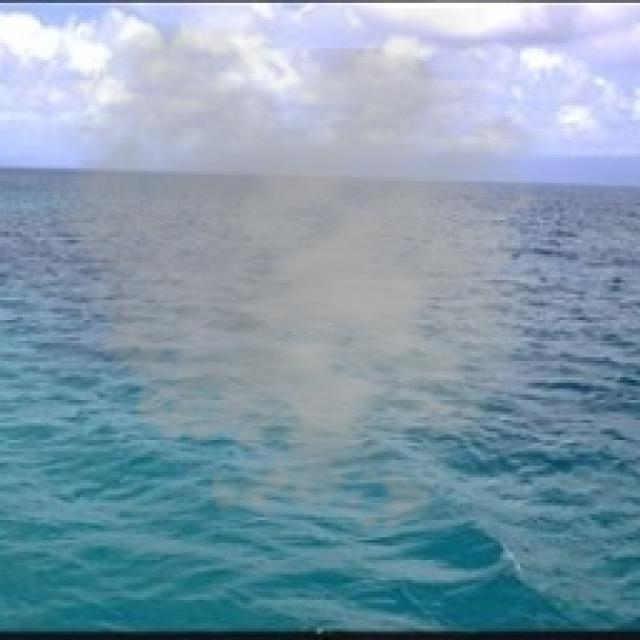Smoke: (34, 9, 583, 552)
